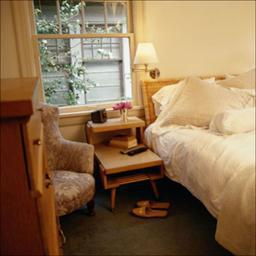Armario: (5, 82, 57, 255)
Cama: (150, 73, 251, 226)
Ventana: (26, 5, 137, 108)
